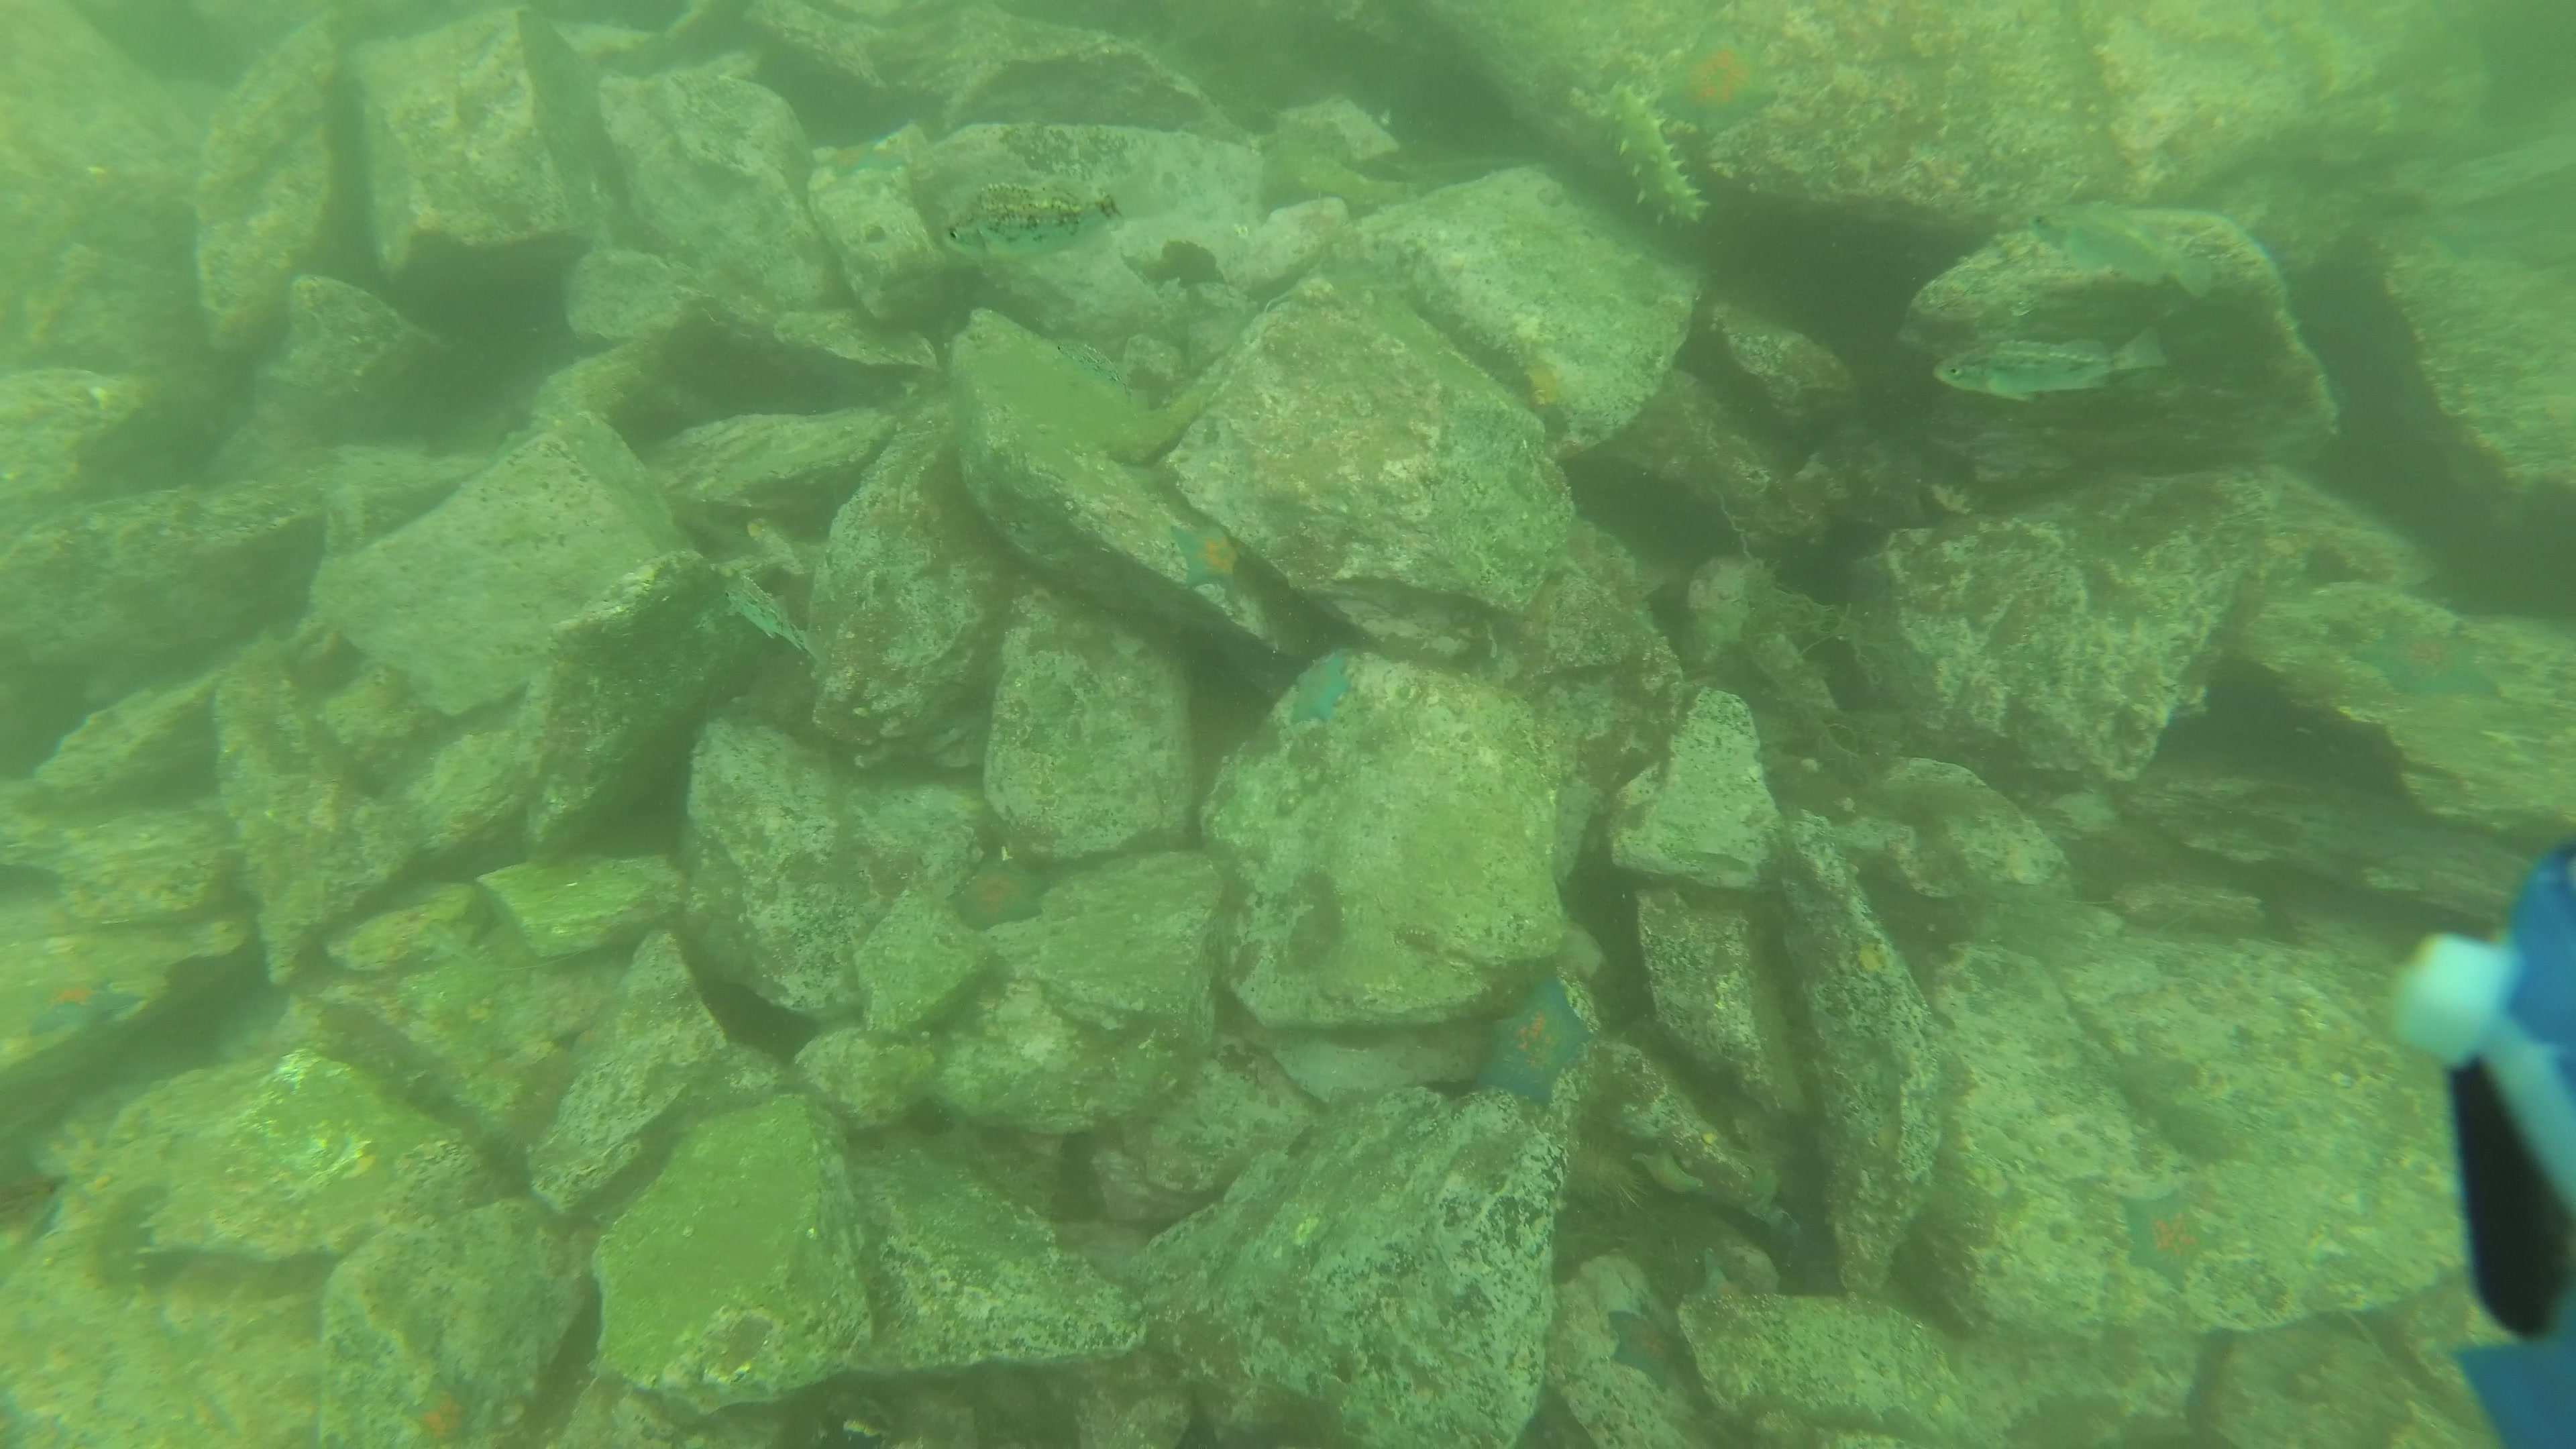echinus: (1537, 1123, 1649, 1221)
holothurian: (1589, 74, 1711, 237), (88, 1182, 172, 1290)
starfish: (1472, 977, 1598, 1116), (1651, 25, 1783, 140), (2351, 619, 2507, 702), (2116, 1180, 2222, 1297), (941, 849, 1058, 936), (27, 970, 147, 1040), (1603, 1299, 1684, 1396), (400, 1369, 487, 1449), (1166, 517, 1246, 598), (1286, 649, 1353, 731), (810, 136, 911, 184)
